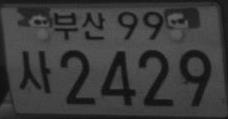2: (136, 48, 174, 106), (59, 49, 97, 105)
4: (100, 50, 137, 106)
9: (178, 48, 212, 108), (141, 10, 164, 40), (117, 10, 138, 40)
부산_H: (52, 11, 106, 41)
사: (17, 50, 52, 94)
